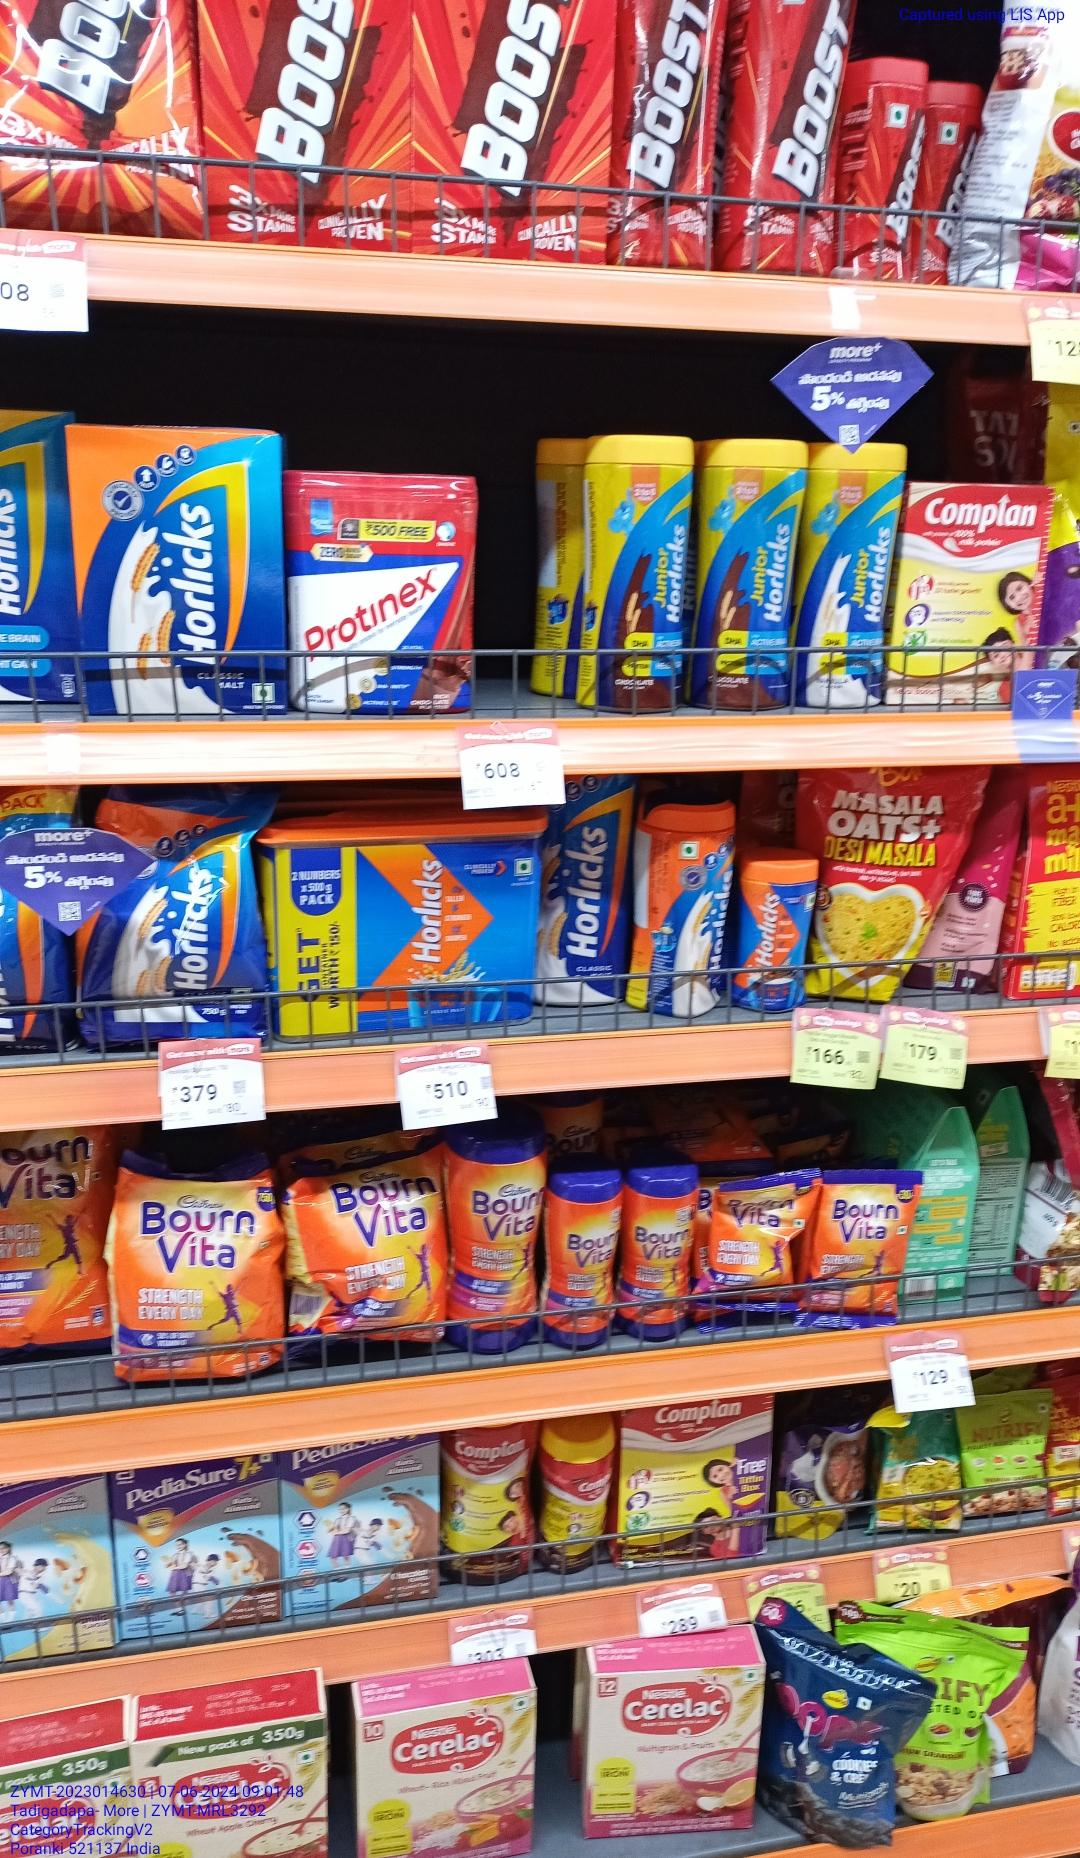BOURN_VITA_200_G_JAR: (624, 1170, 694, 1342), (552, 1177, 613, 1349)
BOURN_VITA_500_G_JAR: (454, 1135, 548, 1355)
BOURN_VITA_750_G_POUCH: (107, 1170, 274, 1377), (297, 1166, 445, 1350)
BOURN_VITA_75_G_POUCH: (818, 1169, 910, 1317), (710, 1183, 804, 1315)
COMPLAN_CHOCOLATE_200_GMS_JAR: (545, 1430, 612, 1584)
COMPLAN_CHOCOLATE_500_GMS_JAR: (451, 1426, 535, 1580)
COMPLAN_CHOCOLATE_500_GMS_PACK: (621, 1403, 764, 1558)
COMPLAN_KESAR_BADAM_500_GMS_PACK: (904, 485, 1038, 706)
HORLICK_CLASSIC_MALT_200_G_JAR: (744, 858, 809, 1012)
HORLICK_CLASSIC_MALT_500_G_JAR: (666, 805, 738, 1021)
HORLICK_CLASSIC_MALT_750_G_POUCH: (86, 813, 266, 1045)
HORLICK_MALT_1_KG_CONTAINER: (269, 829, 527, 1031)
PEDIASURE_7_PLUS_CHOCOLATE_400_G_PACK: (111, 1461, 274, 1632), (283, 1441, 436, 1609)
